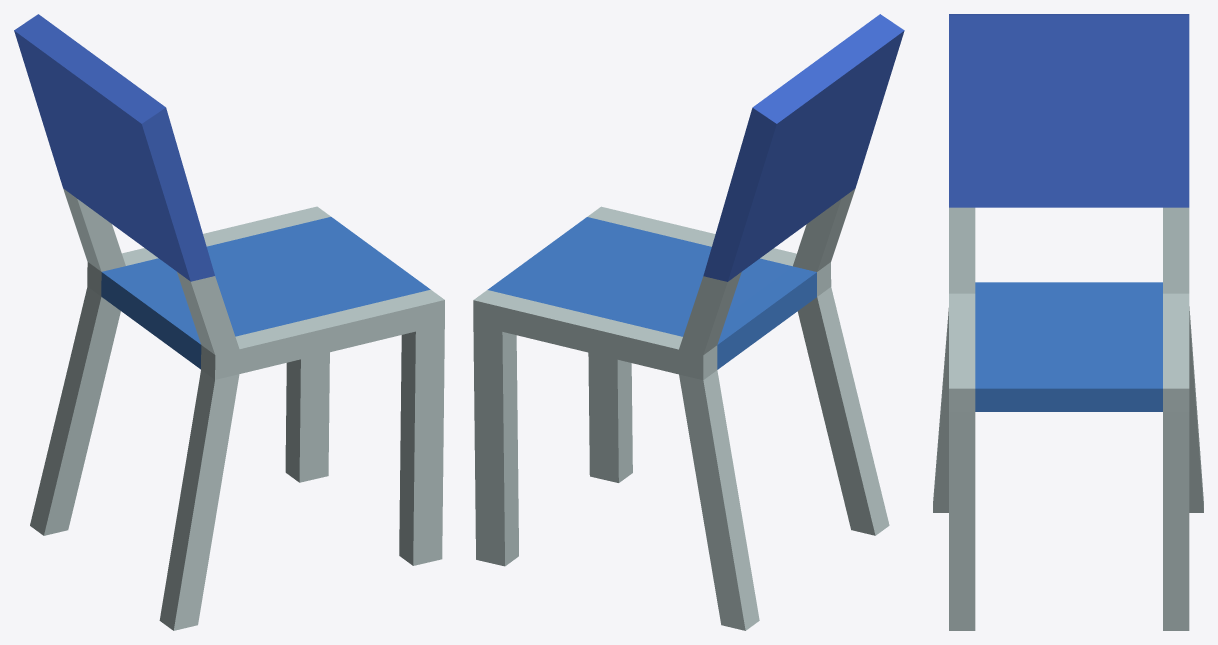
The model's file is sillaChico.fbx.
3 renders of one model, left to right at view 1: azimuth 30°, elevation 25°; view 2: azimuth 150°, elevation 25°; view 3: azimuth 270°, elevation 25°, orthographic. The views are drawn at different scales.
Visible parts, largest first — view 1: Cubo; view 2: Cubo; view 3: Cubo.
Boxes of the visible parts, bbox=[...] form: Cubo: bbox=[14, 14, 444, 630]; Cubo: bbox=[473, 14, 904, 630]; Cubo: bbox=[933, 14, 1203, 630].
Bounding box in the file's own units: 46.06 × 75.36 × 37.84.
